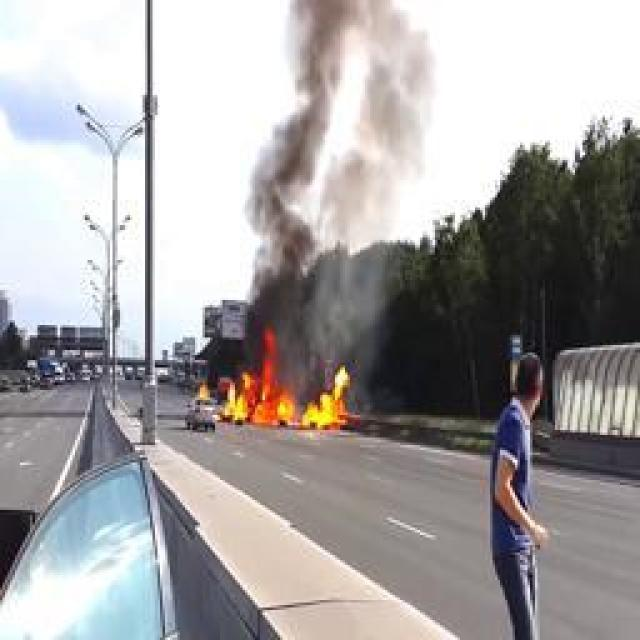Fire: (222, 330, 352, 430)
